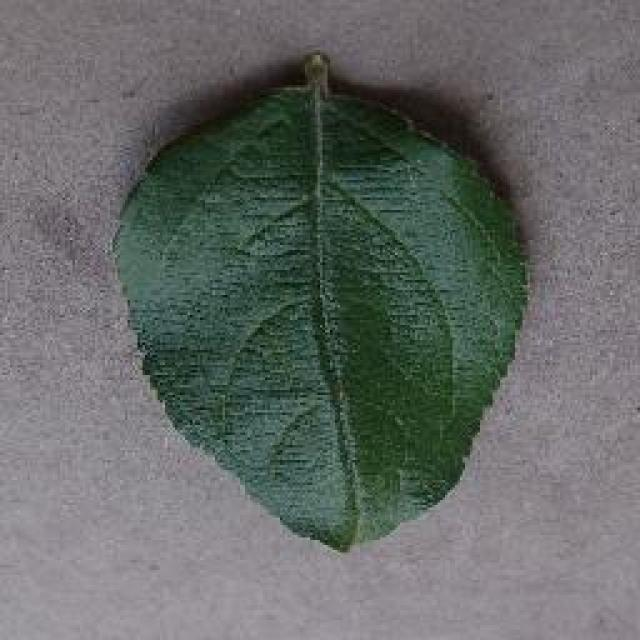apple healthy: (108, 50, 532, 552)
